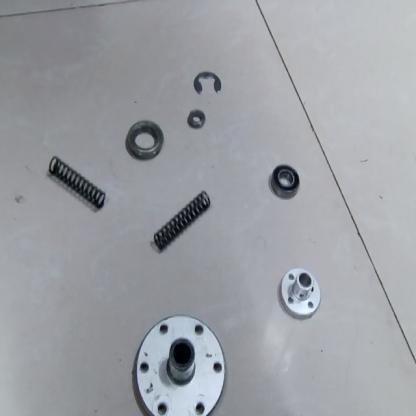FOD: (129, 310, 231, 415), (147, 188, 213, 255), (48, 154, 109, 207), (278, 269, 322, 321), (124, 118, 166, 165), (266, 163, 301, 201), (192, 68, 223, 96), (186, 109, 205, 130)
